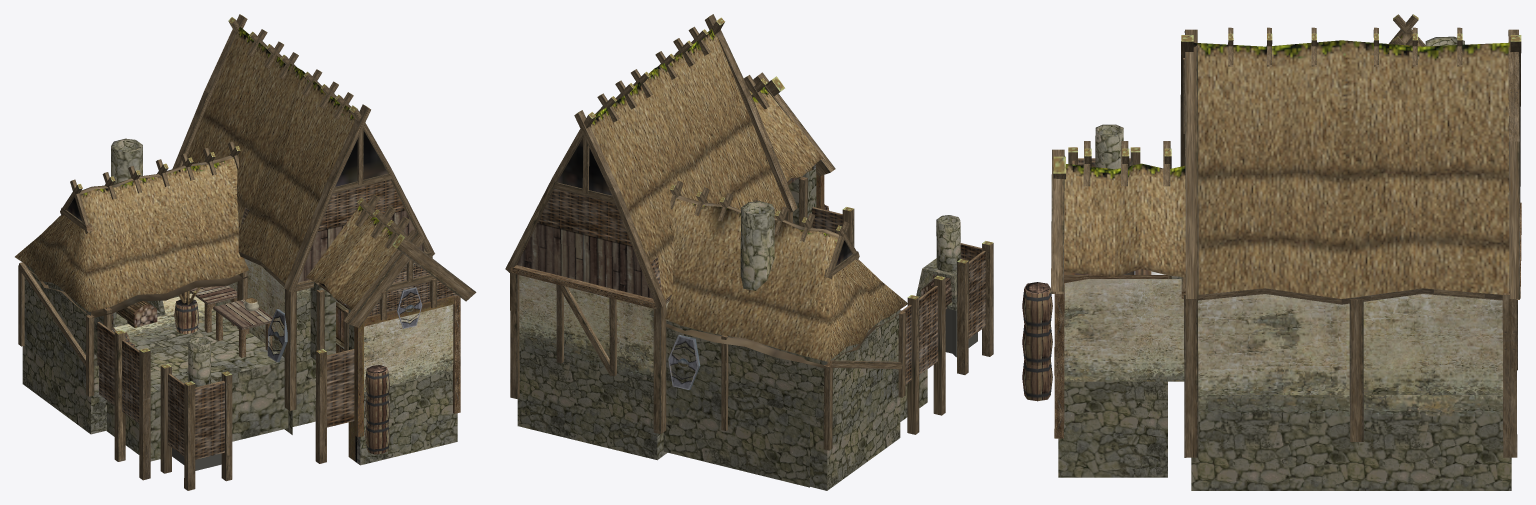
Rendered from forge.dae.
The picture shows the model from 3 angles, left to right: view 1: azimuth 30°, elevation 25°; view 2: azimuth 150°, elevation 25°; view 3: azimuth 270°, elevation 25°; orthographic projection. The views are drawn at different scales.
Parts seen in each view (by area): view 1: Forge Structure; view 2: Forge Structure; view 3: Forge Structure.
Boxes of the visible parts, <box> form: Forge Structure: <box>15,14,476,490</box>; Forge Structure: <box>505,14,993,490</box>; Forge Structure: <box>1022,14,1521,490</box>.
Bounding box in the file's own units: 21.12 × 22.69 × 21.44.
